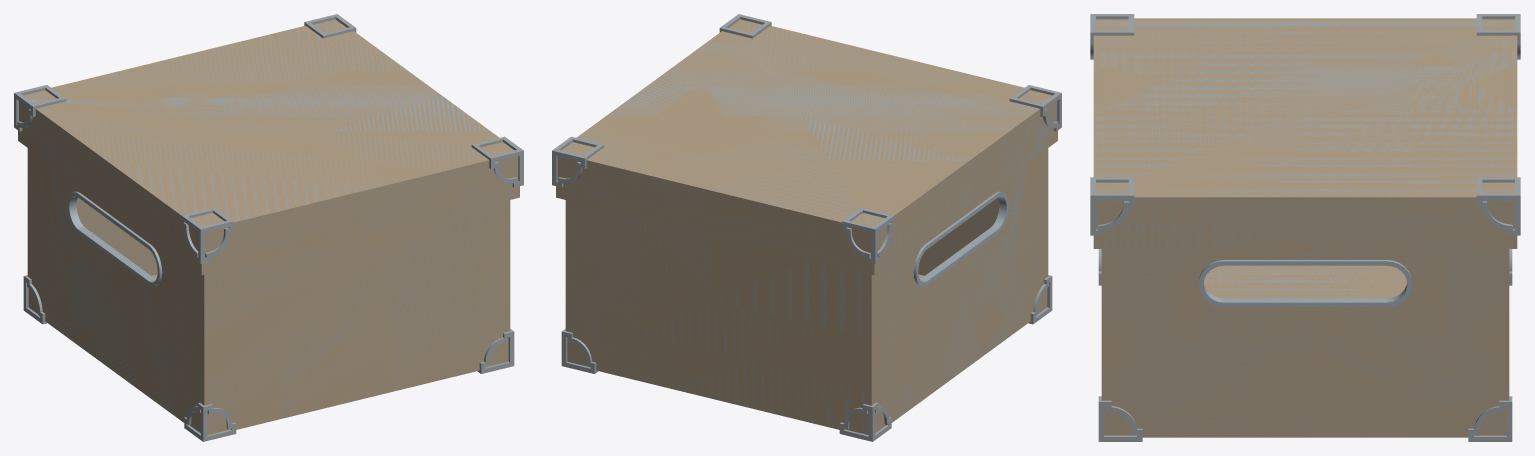
The picture shows the model from 3 angles, left to right: view 1: azimuth 30°, elevation 25°; view 2: azimuth 150°, elevation 25°; view 3: azimuth 270°, elevation 25°; orthographic projection. The views are drawn at different scales.
Visible parts, largest first — view 1: Group4, Group2, Group1, Group3; view 2: Group4, Group2, Group1, Group3; view 3: Group2, Group4, Group1, Group3.
Part boxes in pixels (x1,y1,x2,y2): Group4: [27, 148, 510, 434]; Group2: [18, 19, 519, 274]; Group1: [14, 14, 523, 263]; Group3: [23, 275, 514, 441]; Group4: [565, 148, 1048, 434]; Group2: [556, 19, 1057, 274]; Group1: [552, 14, 1061, 263]; Group3: [561, 275, 1052, 441]; Group2: [1093, 18, 1517, 248]; Group4: [1101, 249, 1509, 437]; Group1: [1090, 14, 1520, 235]; Group3: [1098, 249, 1512, 441].
Bounding box in the file's own units: 264 × 169 × 264.
